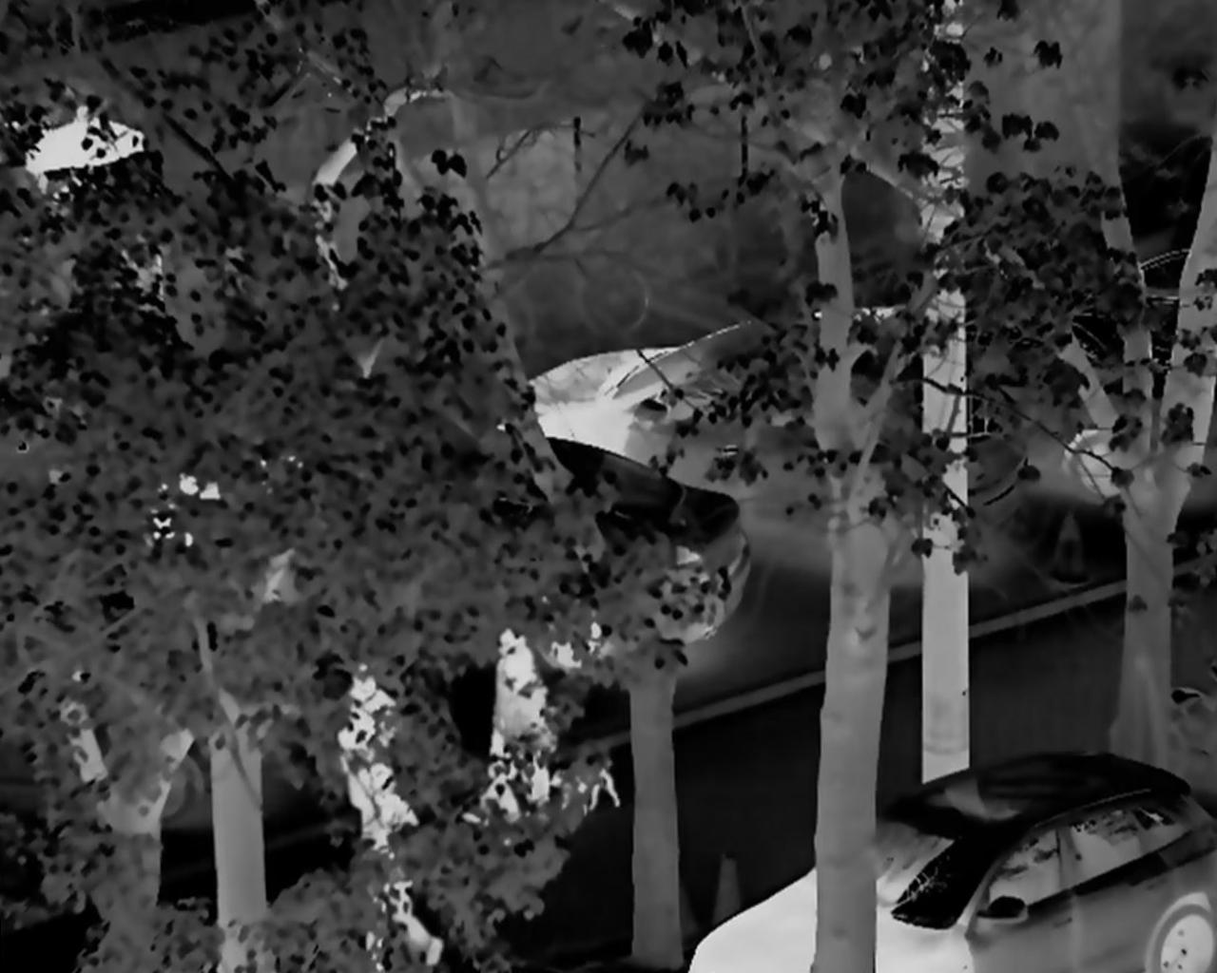person: (355, 787, 449, 973), (469, 631, 551, 843), (338, 662, 406, 829)
